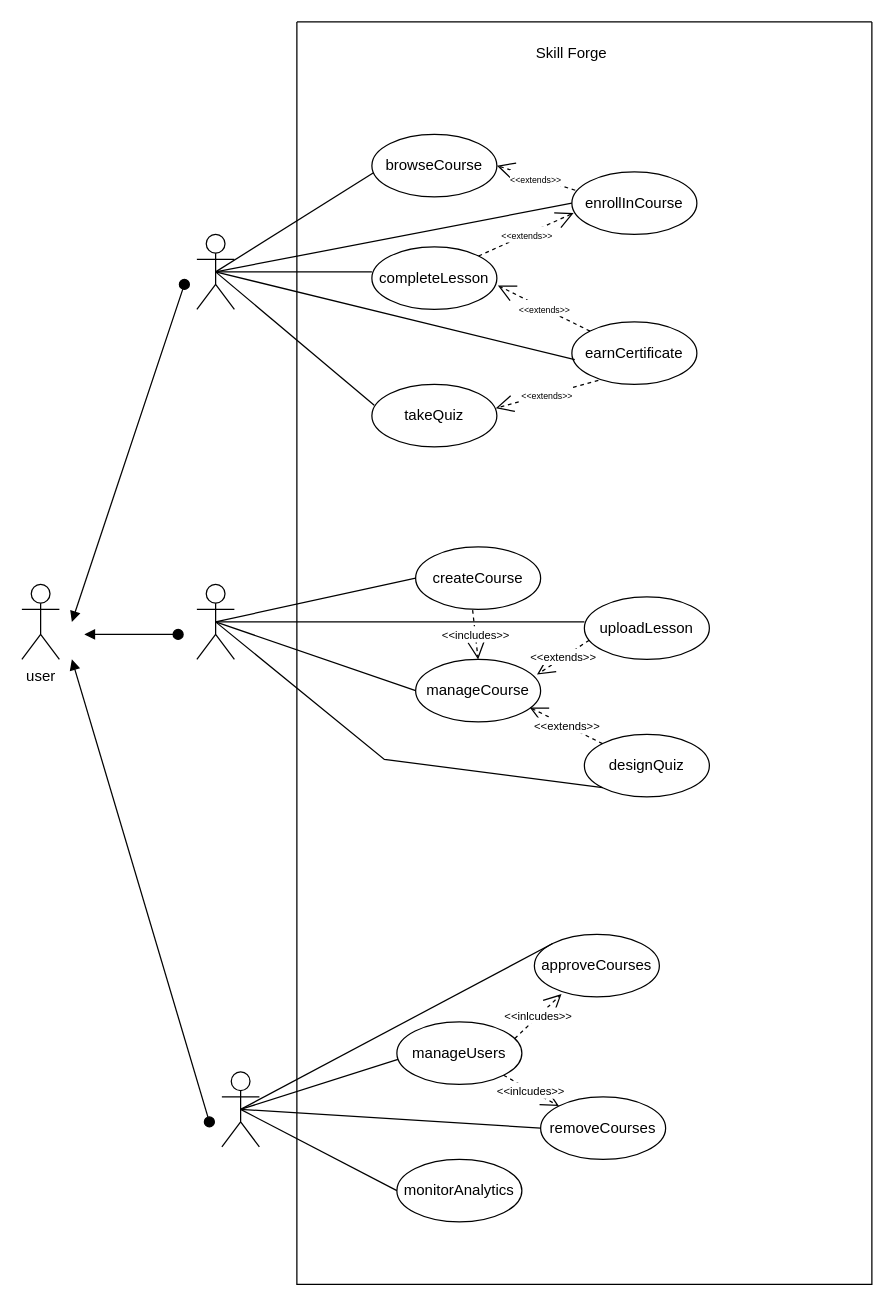
Some shapes in this 894 by 1306 pixel diagram are drawn without their labels. The box of each missing label's shape, as (x1, y1, x2, y2) in pixels:
admin: (221, 1071, 259, 1147)
instructor: (196, 583, 234, 659)
student: (196, 233, 234, 309)
